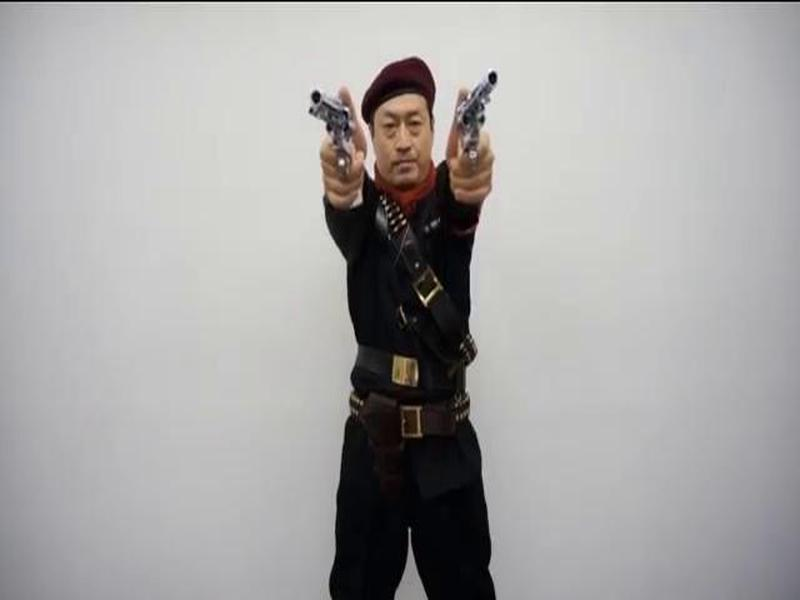Revolver: (307, 74, 378, 199), (450, 61, 507, 173)
